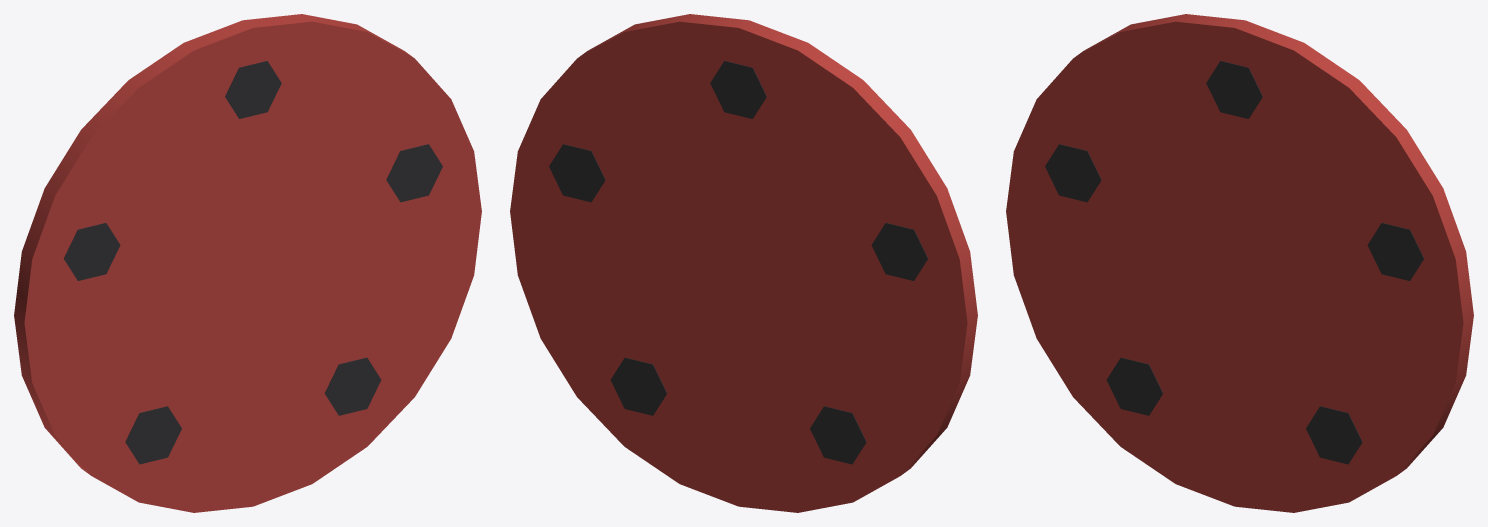
The model's file is rear_40_lod1.glb.
3 views of the same model, side by side, from view 1: azimuth 30°, elevation 25°; view 2: azimuth 150°, elevation 25°; view 3: azimuth 330°, elevation 25° (orthographic).
Parts seen in each view (by area): view 1: rear_40_lod1; view 2: rear_40_lod1; view 3: rear_40_lod1.
Part boxes in pixels (x1,y1,x2,y2): rear_40_lod1: [14, 14, 481, 512]; rear_40_lod1: [510, 14, 977, 512]; rear_40_lod1: [1006, 14, 1473, 512].
Bounding box in the file's own units: 0.2023 × 0.2023 × 0.0085.
